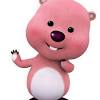Loopy: (9, 1, 96, 100)
